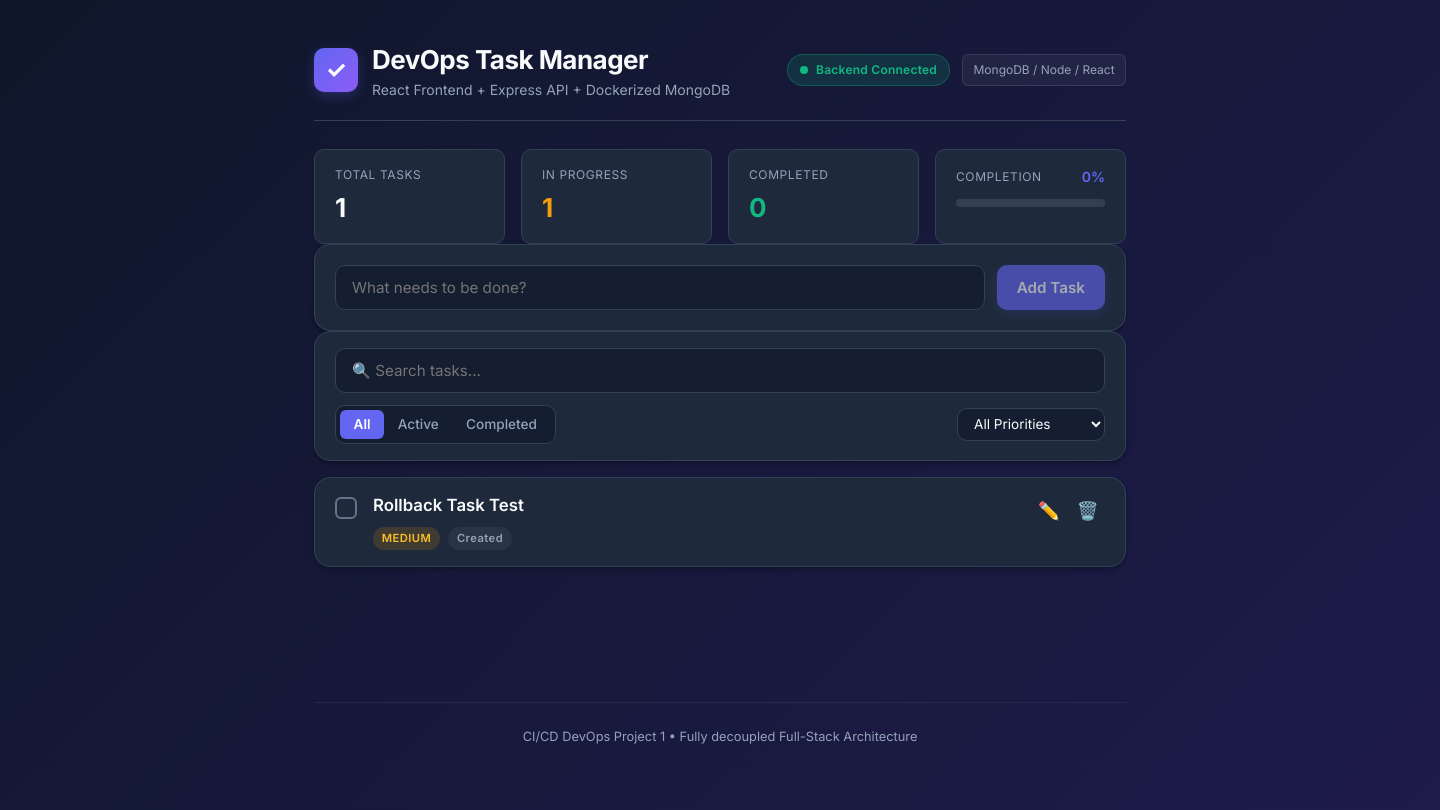
App Root Component Integration & Edge Cases › should handle optimistic toggle and revert state when updateTodo fails
This screenshot has width=1440, height=810.
Expected: the heading "Rollback Task Test" is shown, [373,495,524,515]
Note: Click checkbox to toggle
Click the checkbox.
click(346, 508)  # box [335,497,357,519]
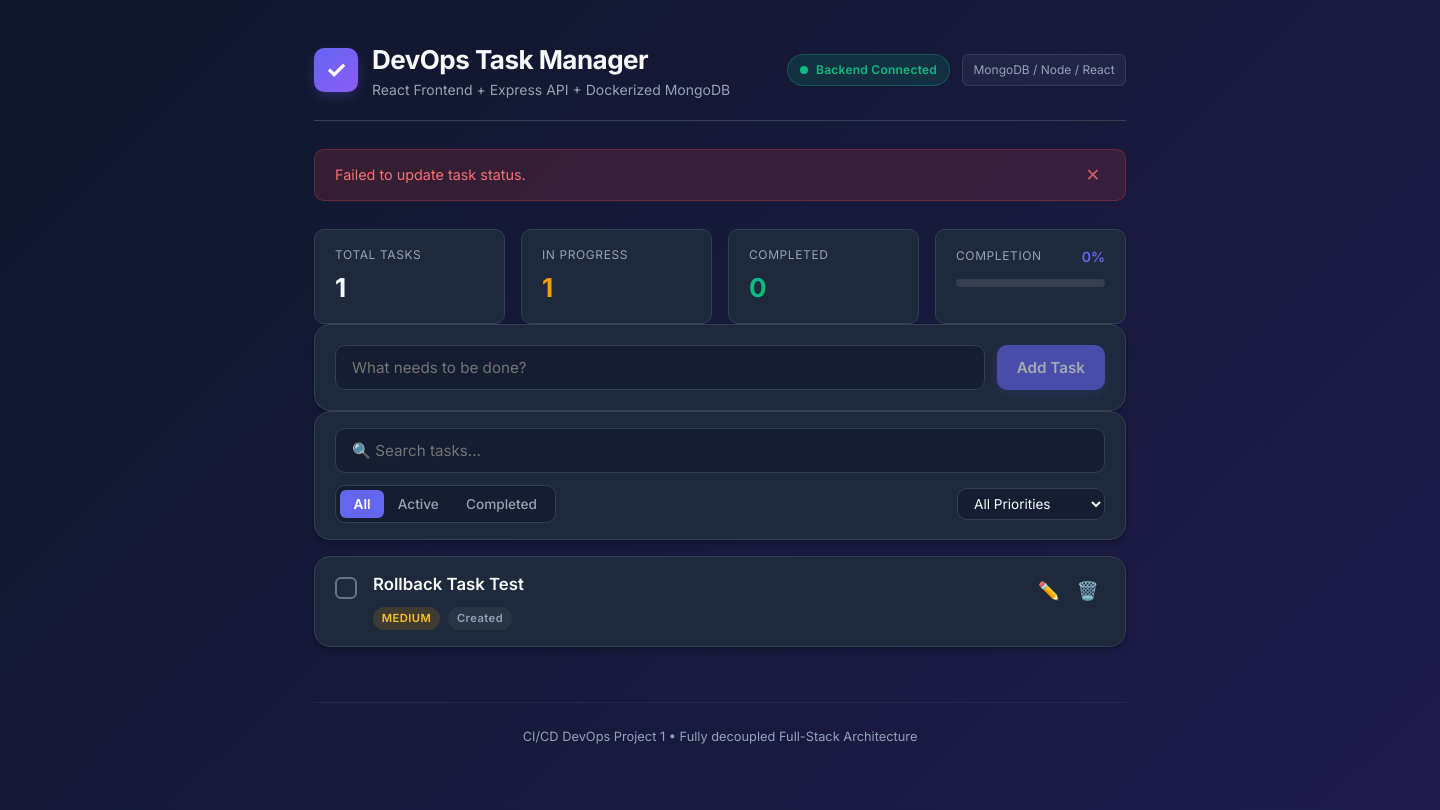
Expected: the checkbox is not checked, [335,577,357,599]
Now the text "Failed to update task status." is shown, box [335,164,526,186]
